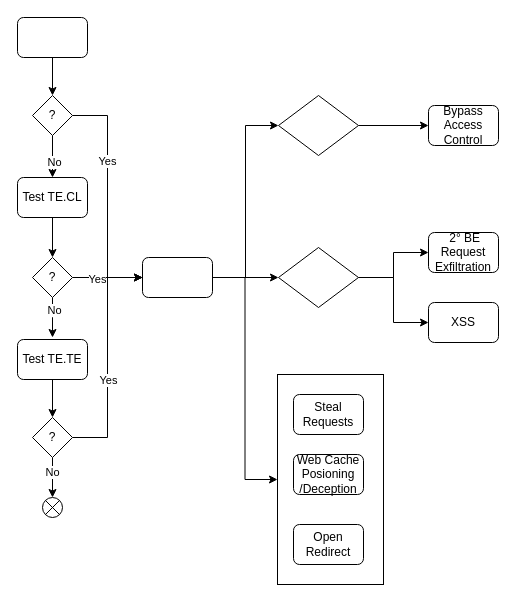
The diagram is 516 pixels wide and 602 high, and some of its shapes have lost their labels. The shapes that lost their labels are listed below. From the top down, each one's centre as x and y in pixels, then its label:
the point at 52,37: Test CL.TE
the point at 318,125: Admin Endpoint?
the point at 177,277: Exploit
the point at 318,277: Is Reflected?
